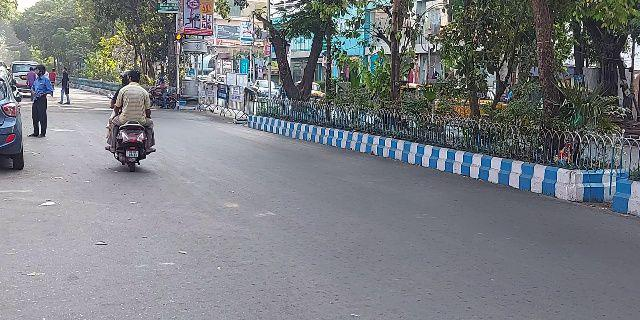Car: (1, 67, 26, 175)
Motorbike: (103, 66, 159, 176)
